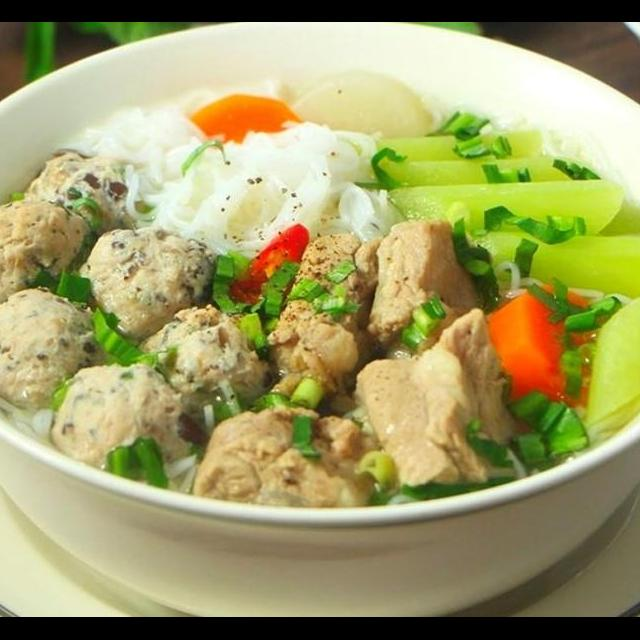bun: (108, 119, 403, 264)
bun moc: (0, 54, 640, 617)
thit heo: (345, 298, 529, 498), (187, 396, 383, 522), (262, 223, 388, 400), (363, 212, 493, 376)
vien moc: (46, 360, 208, 476), (74, 222, 217, 342), (136, 303, 278, 412), (0, 287, 100, 410), (20, 148, 148, 240), (0, 197, 100, 312)
